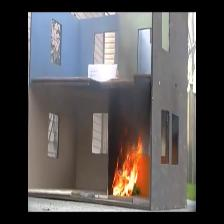fire: (116, 145, 136, 195)
smoke: (114, 90, 141, 122)
